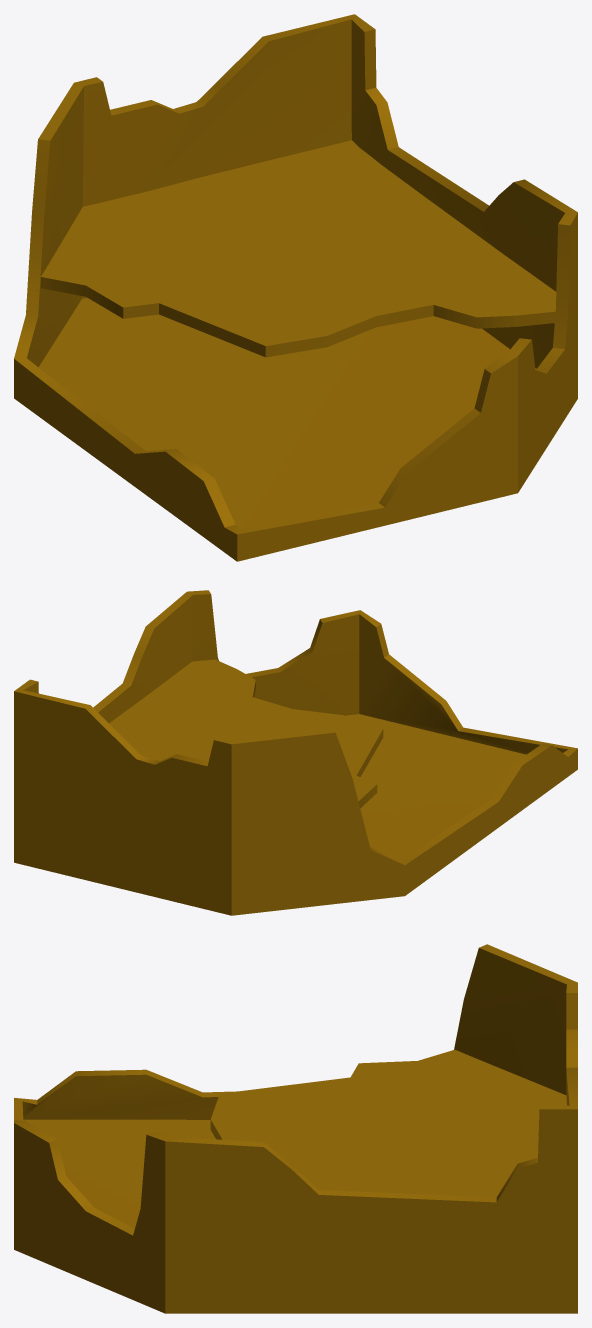
File: SM_Bat2_destroyed.fbx
3 views of the same model, one above another, from view 1: azimuth 30°, elevation 25°; view 2: azimuth 150°, elevation 25°; view 3: azimuth 270°, elevation 25° (orthographic). The views are drawn at different scales.
Parts seen in each view (by area): view 1: Bat2_destroyed; view 2: Bat2_destroyed; view 3: Bat2_destroyed.
Boxes of the visible parts, box(x1,y1,x2,y2) form: Bat2_destroyed: box(14, 14, 577, 561); Bat2_destroyed: box(14, 590, 577, 915); Bat2_destroyed: box(14, 944, 577, 1313).
Size of the model in its own units: 400 by 200 by 500.
